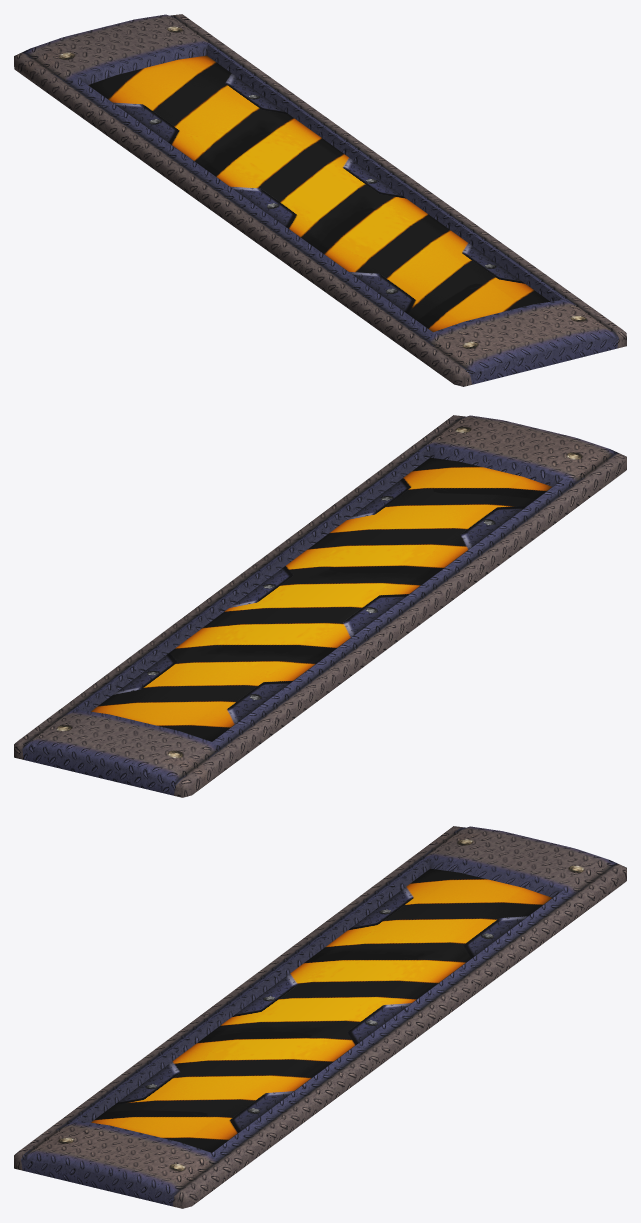
Rendered from SpeedBump.fbx.
3 views of the same model, one above another, from view 1: azimuth 30°, elevation 25°; view 2: azimuth 150°, elevation 25°; view 3: azimuth 330°, elevation 25° (orthographic). The views are drawn at different scales.
Visible parts, largest first — view 1: Box203; view 2: Box203; view 3: Box203.
Part boxes in pixels (box(x1,y1,x2,y2)): Box203: box(14, 14, 626, 386); Box203: box(14, 415, 626, 797); Box203: box(14, 826, 626, 1208).
Bounding box in the file's own units: 69.53 × 7.38 × 296.
